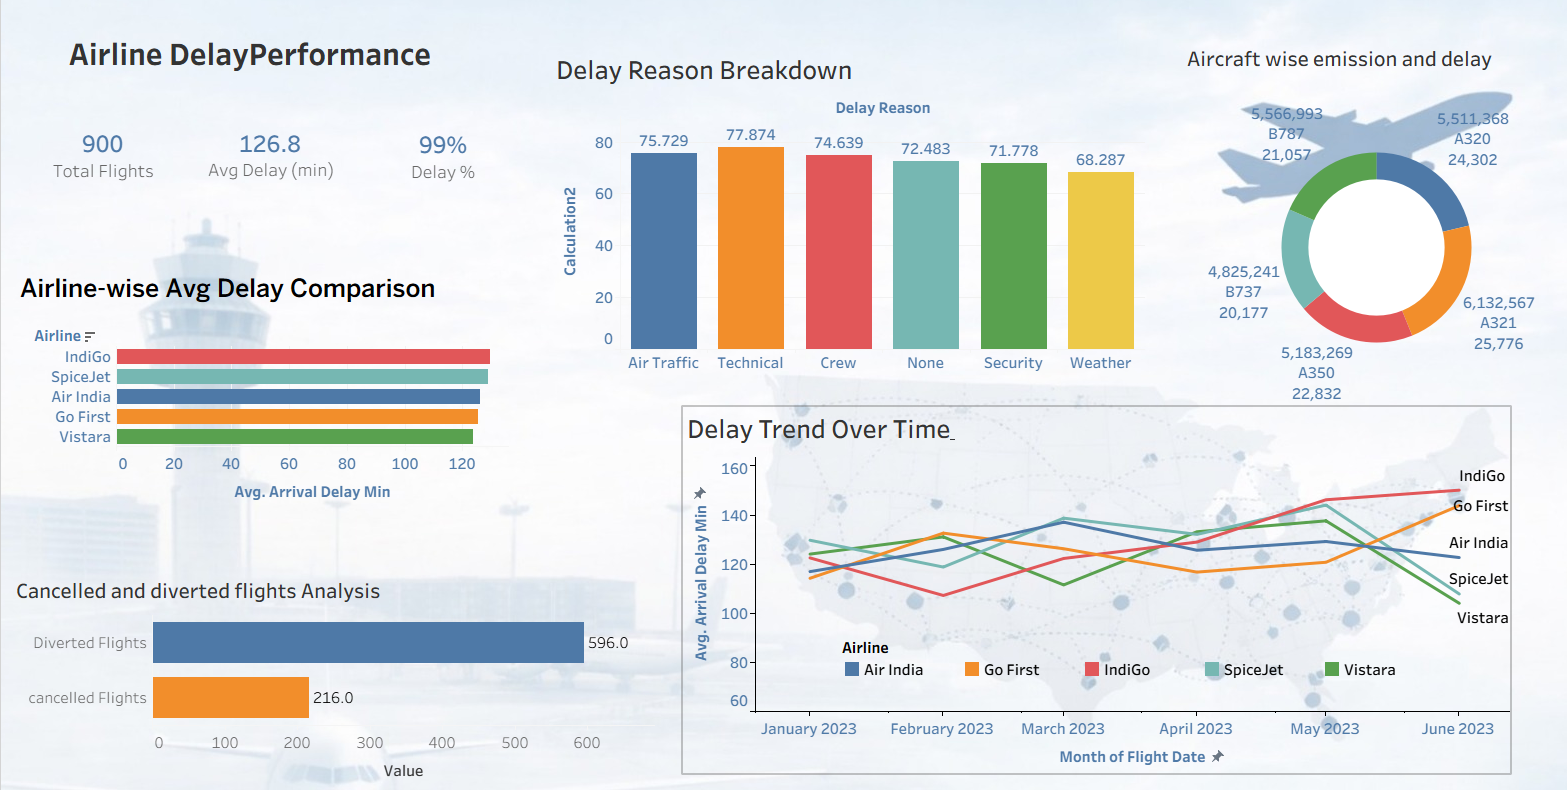

Layout of this report page (visuals, bound fields, positions):
{"tool":"tableau","page":{"name":"Dashboard","canvas":[1000,1000],"units":"permille","ordinal":0},"visuals":[{"type":"title","box":[16.9,37.5,278.4,71]},{"type":"worksheet","title":"Aircraft wise emission and delay","mark":"Pie","rows":["Calculation_0998665174188035","Calculation_0998665174188035"],"box":[741.1,57.6,242.6,463.8]},{"type":"worksheet","title":"Delay Reason Breakdown","mark":"Bar","rows":["Calculation_1382124099170304"],"cols":["Delay_Reason"],"box":[345.4,67,371.8,406.2]},{"type":"worksheet","title":"kpi total Flight","mark":"Text","box":[13.2,113.5,106,179.6]},{"type":"worksheet","title":"Avg Arrival Delay","mark":"Automatic","box":[119.1,113.5,106,179.6]},{"type":"worksheet","title":"% FLights Delay","mark":"Automatic","box":[225.1,113.5,106,179.6]},{"type":"worksheet","title":"airlines wise delay","mark":"Bar","rows":["Airline"],"cols":["Arrival_Delay_Min"],"box":[9.4,342.9,309.1,321.7]},{"type":"worksheet","title":"Seasonal delay patterns ","mark":"Line","rows":["Arrival_Delay_Min"],"cols":["Flight_Date"],"box":[427.6,514.8,518.5,457.1]},{"type":"worksheet","title":"Cancelled and diverted flights Analysis","mark":"Automatic","box":[6.9,721.2,403.4,269.4]},{"type":"legend","title":"Seasonal delay patterns ","param":"[federated.1i8p30h0uiyqdo1frp16w0h5701n].[none:Airline:nk]","box":[527.3,801.6,405,69.7]}]}

Visuals, with their boxes on the dashboard's canvas, which has no fixed pixel size, in thousandths of its width and height (x1, y1, x2, y2). These are canvas units, not pixel positions in the 1567x790 screenshot, which may show the page scaled, cropped or inside an application window:
title: l=17, t=38, r=295, b=108
"Aircraft wise emission and delay" worksheet (Pie marks): l=741, t=58, r=984, b=521
"Delay Reason Breakdown" worksheet (Bar marks): l=345, t=67, r=717, b=473
"kpi total Flight" worksheet (Text marks): l=13, t=114, r=119, b=293
"Avg Arrival Delay" worksheet: l=119, t=114, r=225, b=293
"% FLights Delay" worksheet: l=225, t=114, r=331, b=293
"airlines wise delay" worksheet (Bar marks): l=9, t=343, r=318, b=665
"Seasonal delay patterns " worksheet (Line marks): l=428, t=515, r=946, b=972
"Cancelled and diverted flights Analysis" worksheet: l=7, t=721, r=410, b=991
"Seasonal delay patterns " legend: l=527, t=802, r=932, b=871
